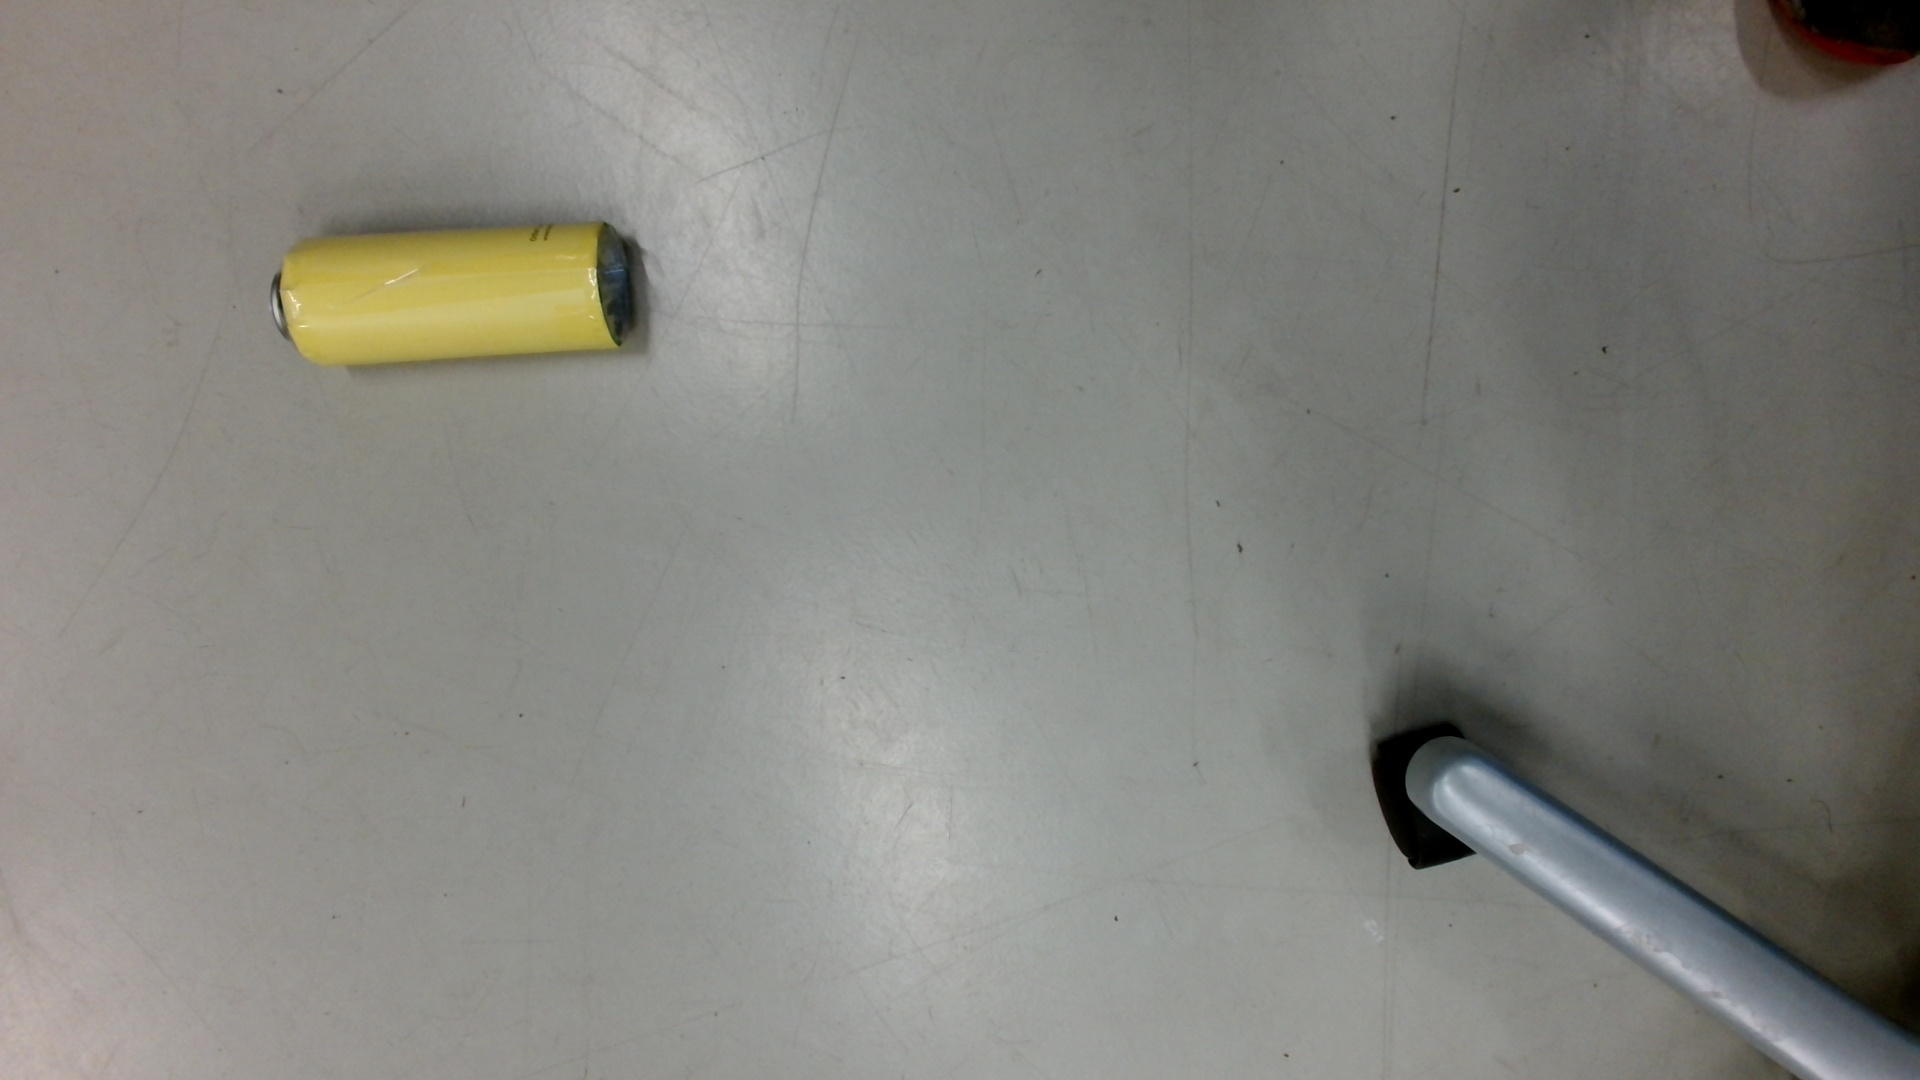Cylinder: (261, 218, 655, 375)
